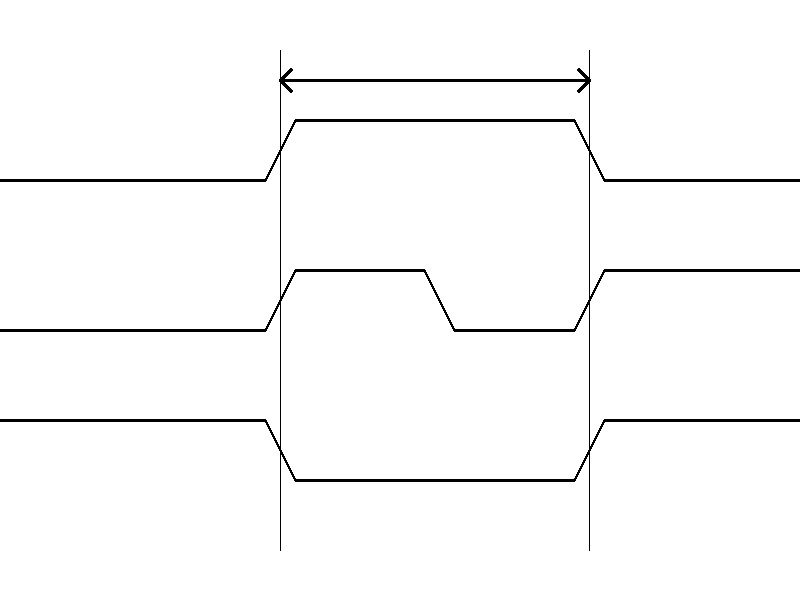double_arrow: (280, 65, 589, 95)
